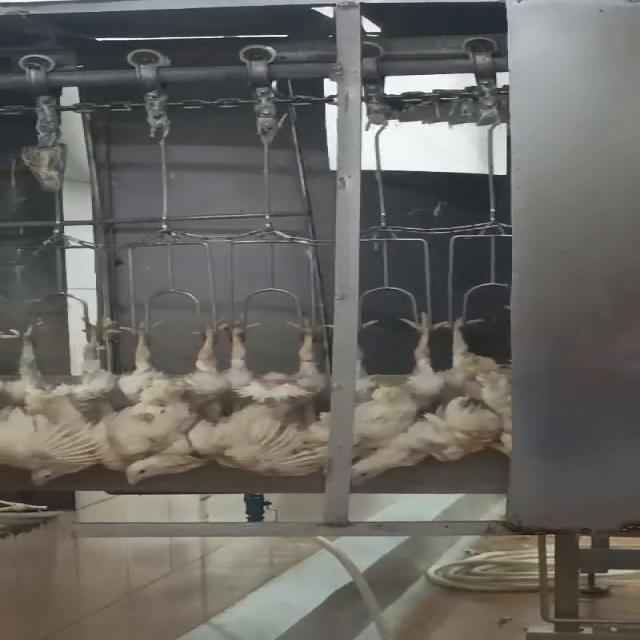chicken: (92, 322, 226, 488), (218, 316, 332, 482), (0, 320, 109, 488), (400, 311, 505, 469), (348, 356, 416, 490)
